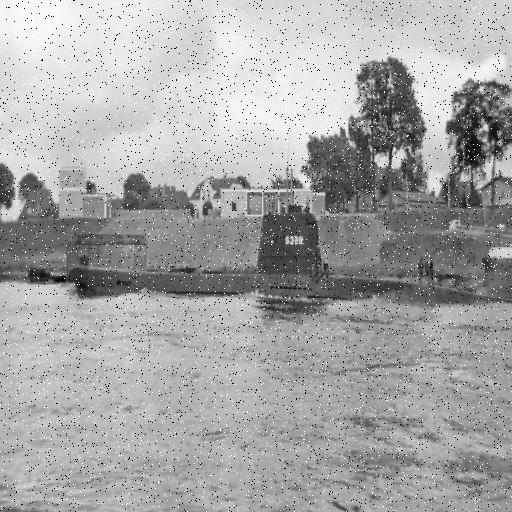submarine: (67, 211, 512, 309)
